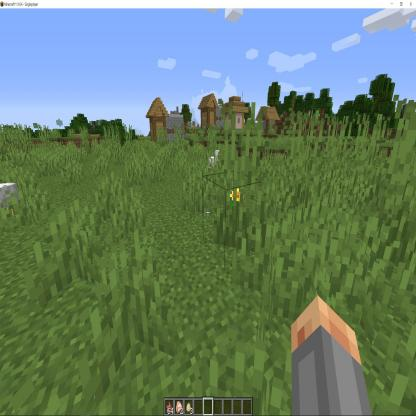minecraft-pigs: (207, 149, 222, 178)
